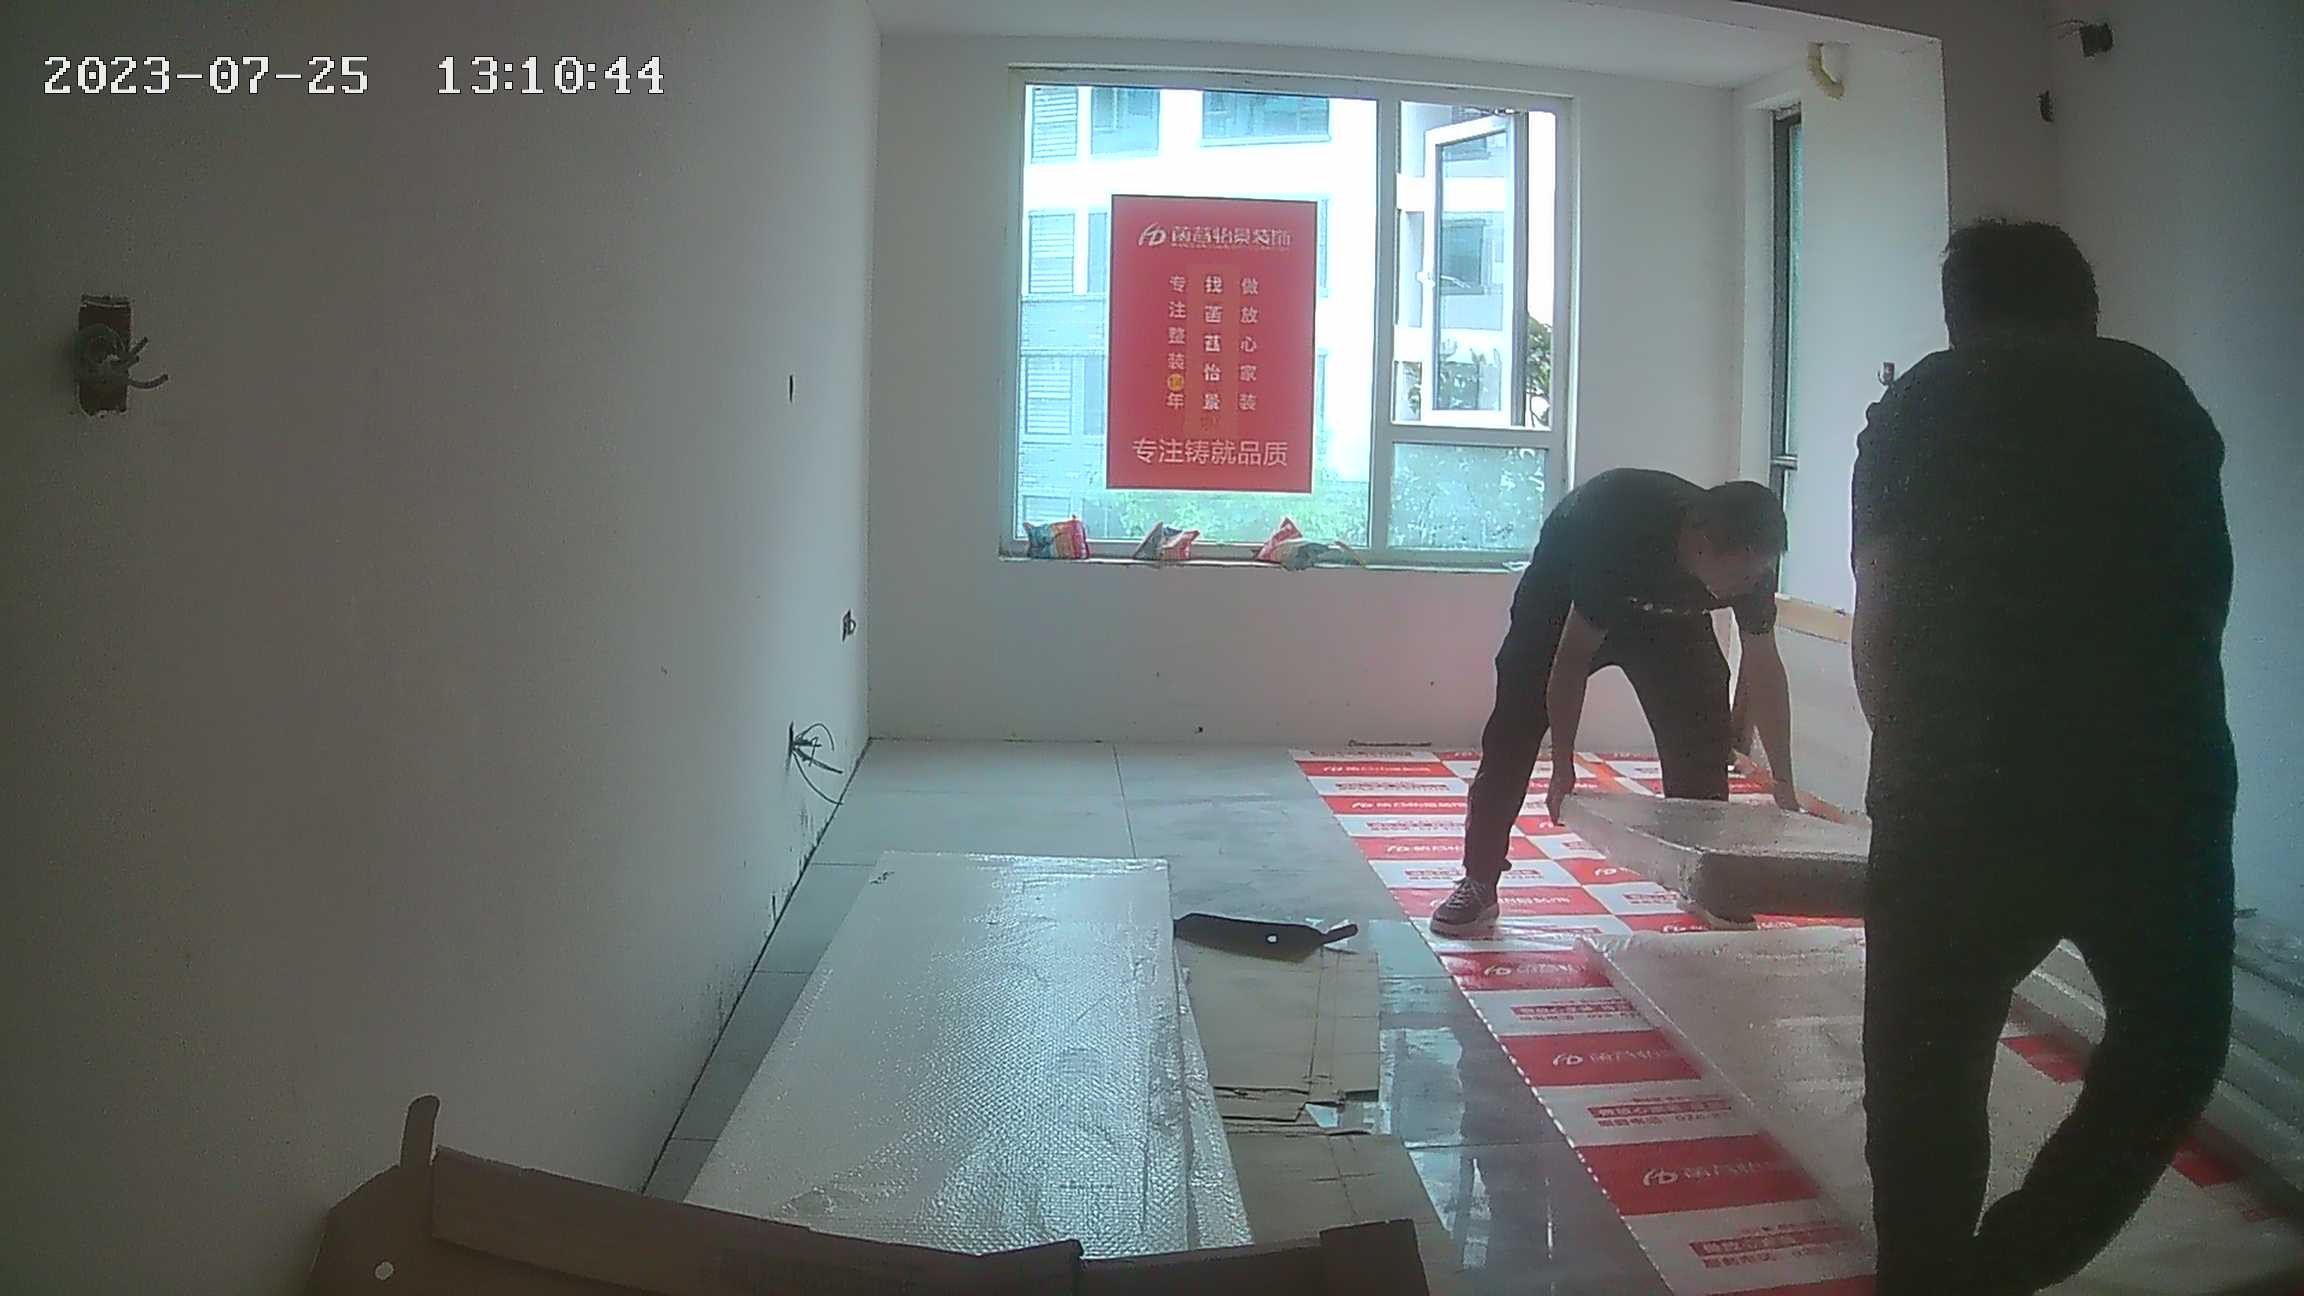people: (1843, 216, 2239, 1296), (1429, 470, 1769, 947)
window: (1024, 84, 1557, 568)
